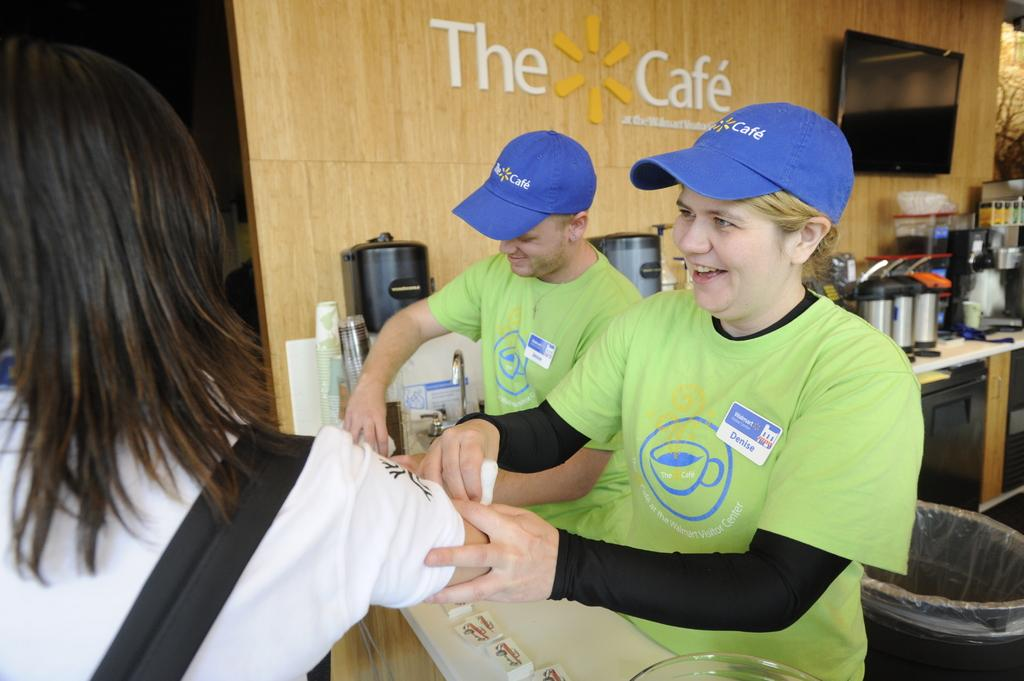Hat: (626, 98, 856, 226), (452, 124, 598, 242)
